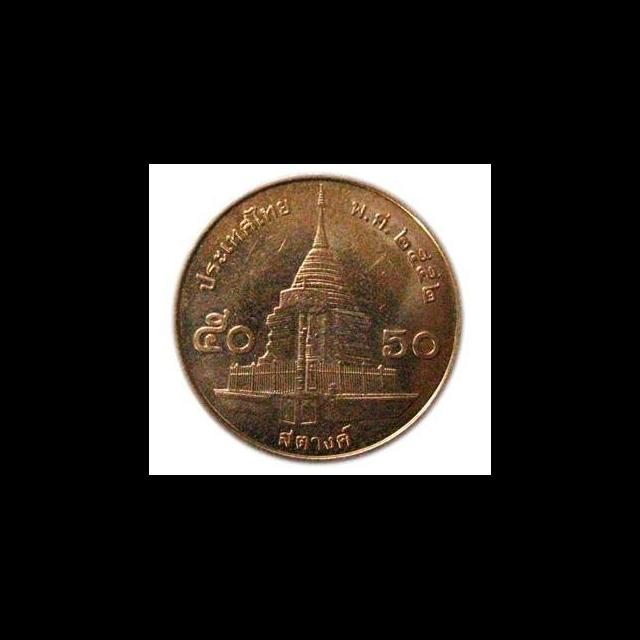50-satang: (149, 164, 491, 476)
